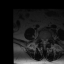CCS_normal: (43, 37, 45, 46)
LFS_normal: (47, 36, 49, 42)
LLS_normal: (45, 36, 47, 45)
RFS_stenosis: (40, 35, 41, 42)
RLS_normal: (41, 36, 43, 45)
